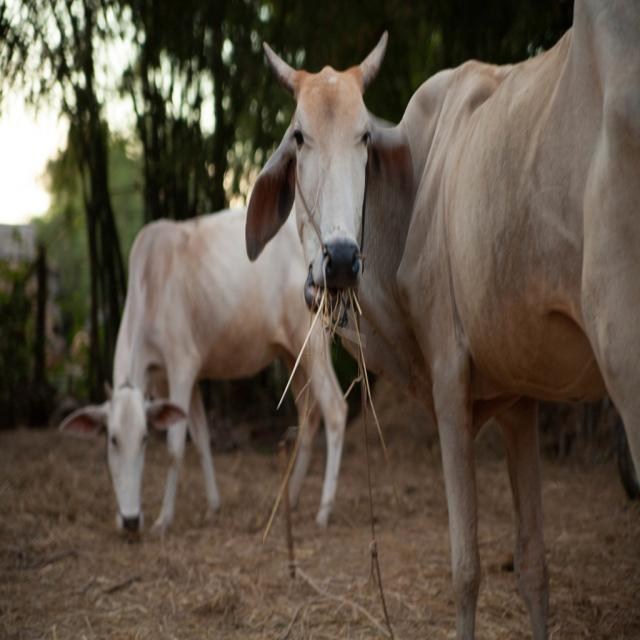Cattle: (245, 0, 640, 640), (58, 206, 349, 533)
